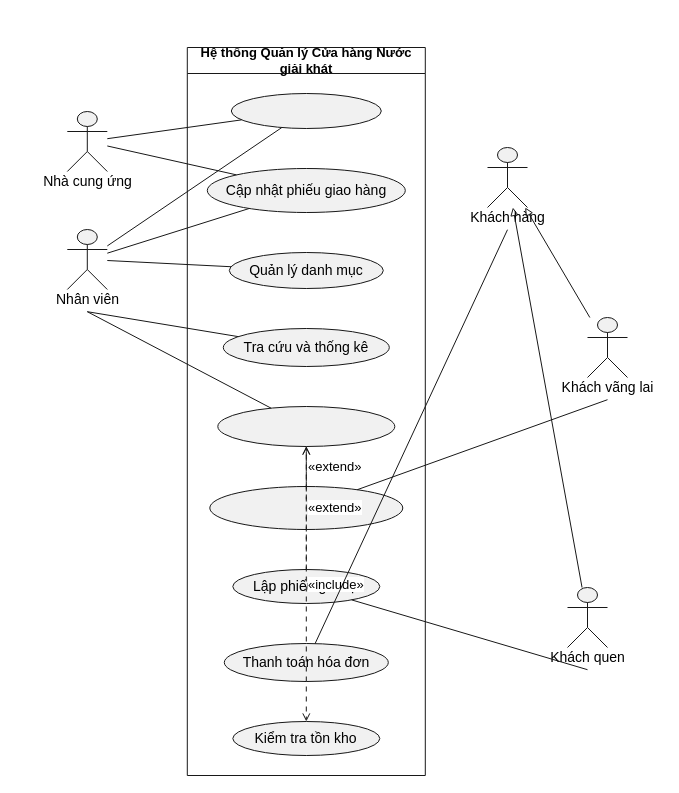
Image size: 679x793. Some labels were removed from this diagram. The centre of each missing label's shape, as x and y in pixels:
Lập hóa đơn bán hàng: [306,426]
Lập phiếu hẹn giao hàng: [306,508]
Lập đơn đặt hàng: [305,110]
